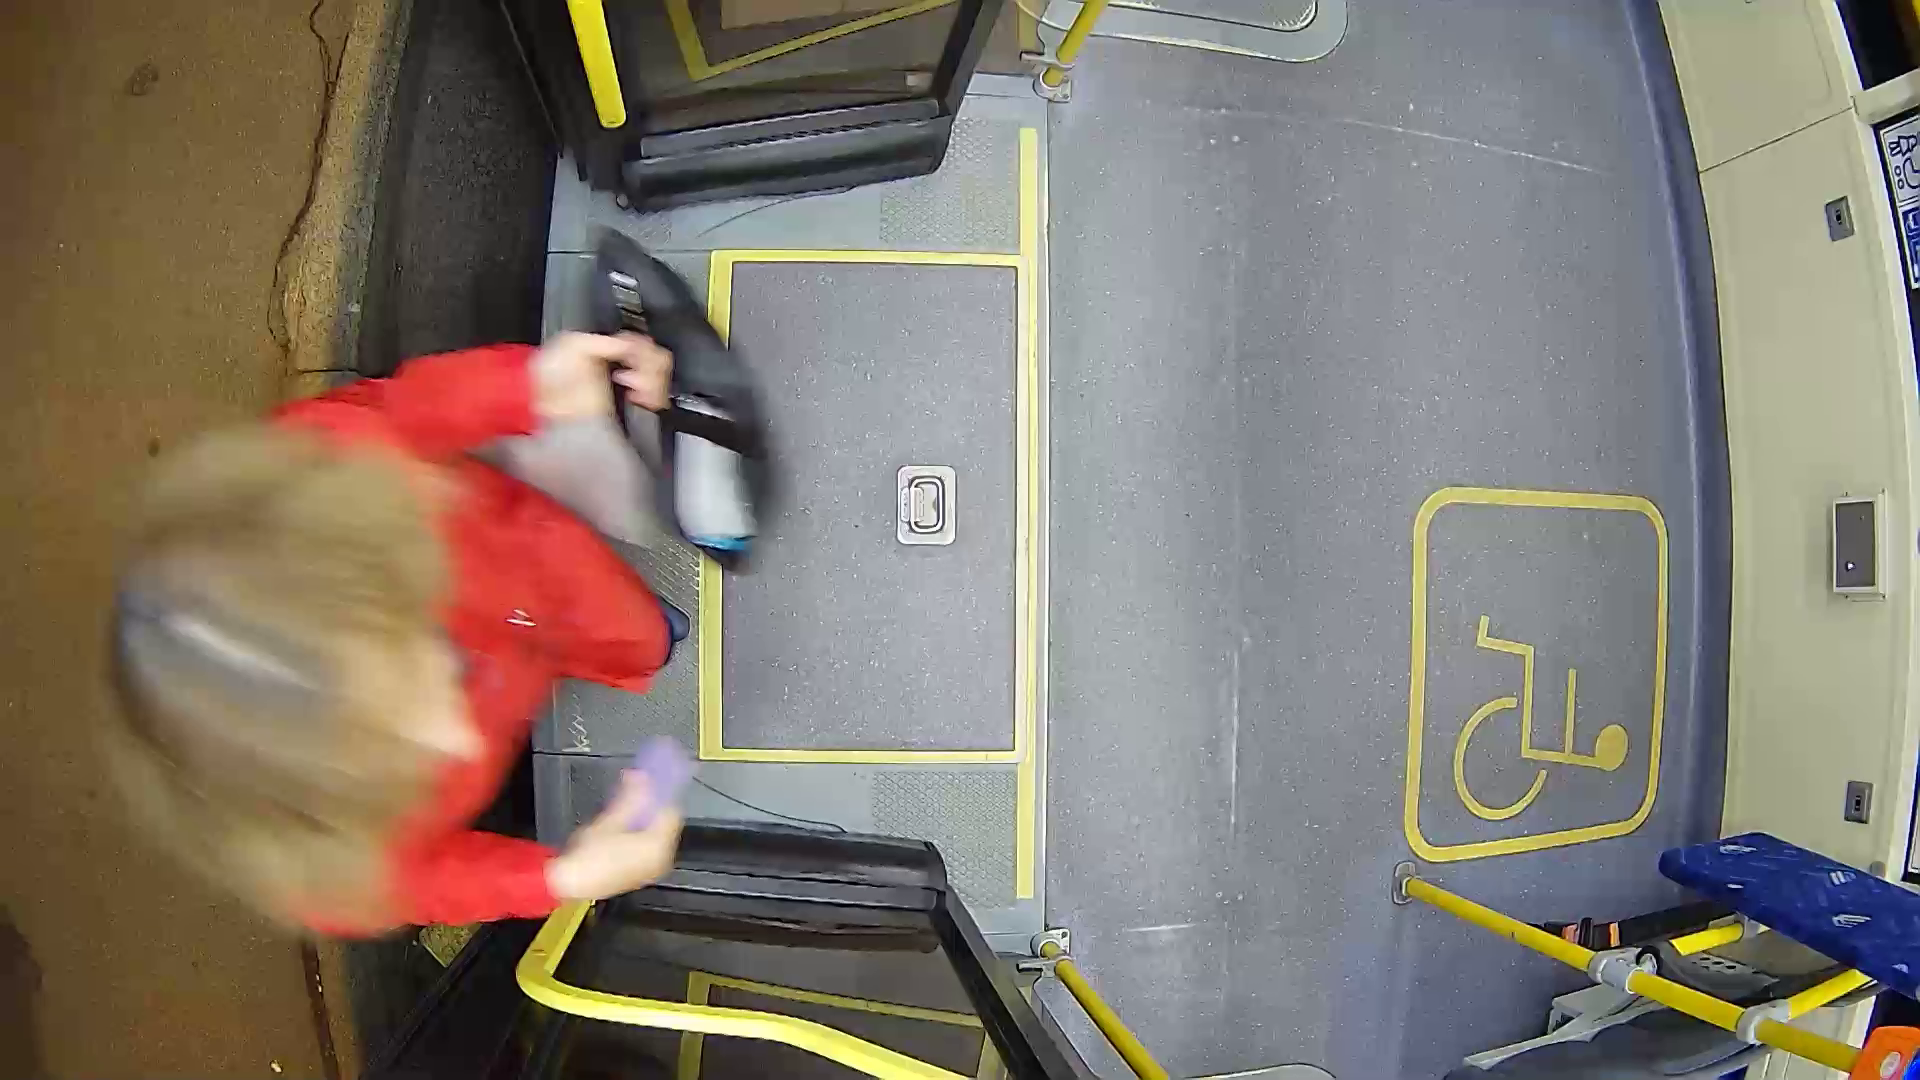person: (73, 226, 980, 967)
